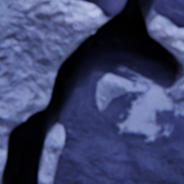brick: (53, 85, 183, 183)
broken_brick: (155, 0, 183, 27), (83, 0, 125, 16)
crack: (0, 0, 183, 183)
